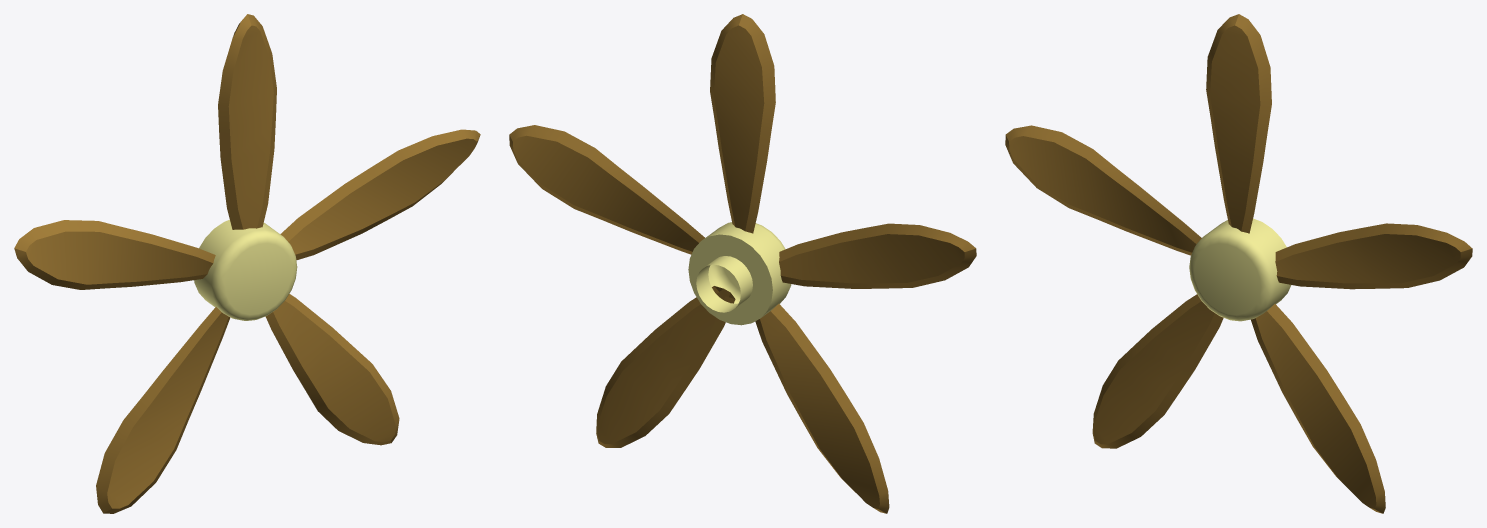
Rendered from propeller_wood_2.fbx.
The picture shows the model from 3 angles, left to right: view 1: azimuth 30°, elevation 25°; view 2: azimuth 150°, elevation 25°; view 3: azimuth 330°, elevation 25°; orthographic projection.
Visible parts, largest first — view 1: propeller_wood_2; view 2: propeller_wood_2; view 3: propeller_wood_2.
Boxes of the visible parts, <box> form: propeller_wood_2: <box>14,14,480,513</box>; propeller_wood_2: <box>509,14,976,513</box>; propeller_wood_2: <box>1005,14,1472,513</box>.
Size of the model in its own units: 177 by 169 by 23.45.
